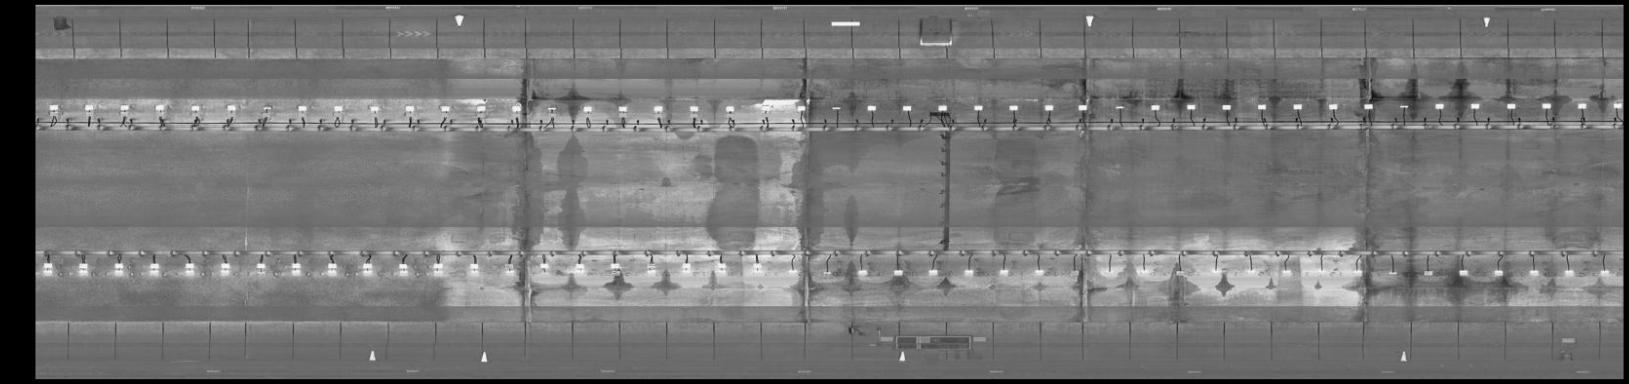light: (323, 259, 344, 280), (529, 260, 557, 275), (286, 260, 308, 279), (246, 260, 268, 277), (1594, 266, 1615, 281), (1063, 266, 1085, 281), (328, 99, 350, 114), (178, 260, 201, 275), (359, 260, 378, 278), (214, 260, 235, 276), (257, 101, 281, 114), (1417, 267, 1439, 281), (754, 101, 776, 115), (464, 262, 486, 276), (611, 101, 630, 117), (639, 260, 658, 277), (393, 263, 411, 279), (1217, 100, 1236, 115), (499, 264, 518, 279), (569, 262, 591, 275), (1524, 265, 1542, 281), (428, 262, 446, 278), (604, 260, 622, 276), (1275, 265, 1294, 279), (959, 267, 979, 281), (508, 101, 528, 115), (1488, 266, 1508, 279), (44, 101, 64, 114), (73, 263, 94, 276), (1465, 99, 1483, 114), (1323, 100, 1341, 114), (746, 263, 765, 277), (577, 101, 595, 115), (113, 102, 135, 114), (145, 262, 164, 276), (1134, 266, 1154, 279), (434, 103, 454, 116), (106, 260, 129, 272), (1451, 269, 1472, 281), (1168, 267, 1189, 279), (683, 103, 703, 115), (473, 102, 488, 118), (150, 103, 170, 115), (1383, 265, 1400, 279), (38, 262, 56, 276), (1074, 101, 1093, 114), (995, 266, 1014, 279), (896, 101, 914, 114), (720, 102, 739, 115), (1098, 267, 1118, 279), (364, 103, 383, 115), (1288, 99, 1304, 114), (677, 260, 693, 276), (1359, 99, 1376, 113), (293, 101, 310, 115), (1395, 100, 1413, 113), (1029, 266, 1046, 279), (400, 101, 418, 114), (923, 268, 943, 279), (852, 267, 871, 279), (1538, 100, 1553, 114), (1143, 102, 1163, 113), (713, 260, 729, 274), (648, 104, 665, 117), (223, 101, 240, 114), (1431, 100, 1448, 112), (1181, 102, 1200, 113), (185, 103, 204, 114), (1041, 101, 1057, 114), (1573, 100, 1590, 112), (1005, 102, 1022, 113), (969, 101, 987, 112), (1563, 266, 1577, 279), (80, 101, 95, 114), (890, 268, 906, 280), (1241, 266, 1261, 275), (790, 104, 807, 114), (1504, 100, 1519, 112), (1254, 102, 1269, 114), (544, 103, 559, 115), (1208, 264, 1224, 275), (1348, 267, 1365, 277), (1314, 266, 1331, 276), (864, 104, 881, 114), (1607, 100, 1622, 111), (818, 269, 834, 278), (829, 104, 844, 114), (1112, 103, 1127, 112), (783, 268, 799, 277), (935, 103, 951, 112)
